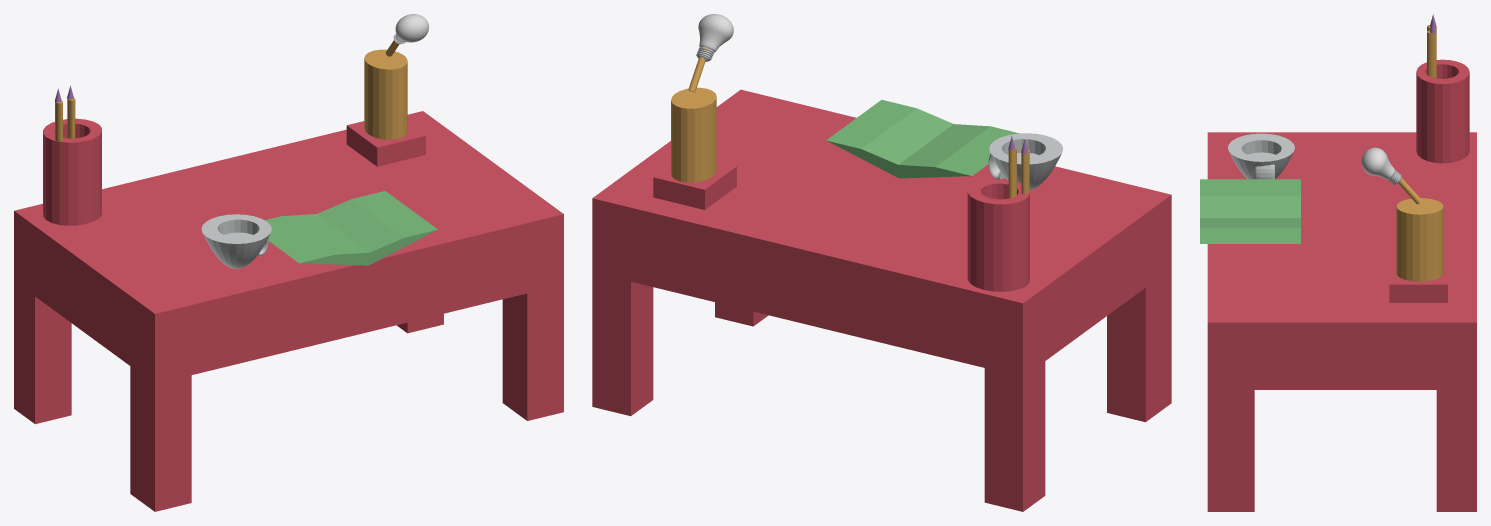
File: Fantabulous Kieran.glb
3 renders of one model, left to right at view 1: azimuth 30°, elevation 25°; view 2: azimuth 150°, elevation 25°; view 3: azimuth 270°, elevation 25°, orthographic. The views are drawn at different scales.
Visible parts, largest first — view 1: Mesh_Mesh_head_geo.001_lambert2SG.001; view 2: Mesh_Mesh_head_geo.001_lambert2SG.001; view 3: Mesh_Mesh_head_geo.001_lambert2SG.001.
Boxes of the visible parts, box(x1,y1,x2,y2) form: Mesh_Mesh_head_geo.001_lambert2SG.001: box(14, 14, 563, 511); Mesh_Mesh_head_geo.001_lambert2SG.001: box(592, 14, 1171, 511); Mesh_Mesh_head_geo.001_lambert2SG.001: box(1200, 14, 1476, 511).
Bounding box in the file's own units: 67 × 54.49 × 41.12.
